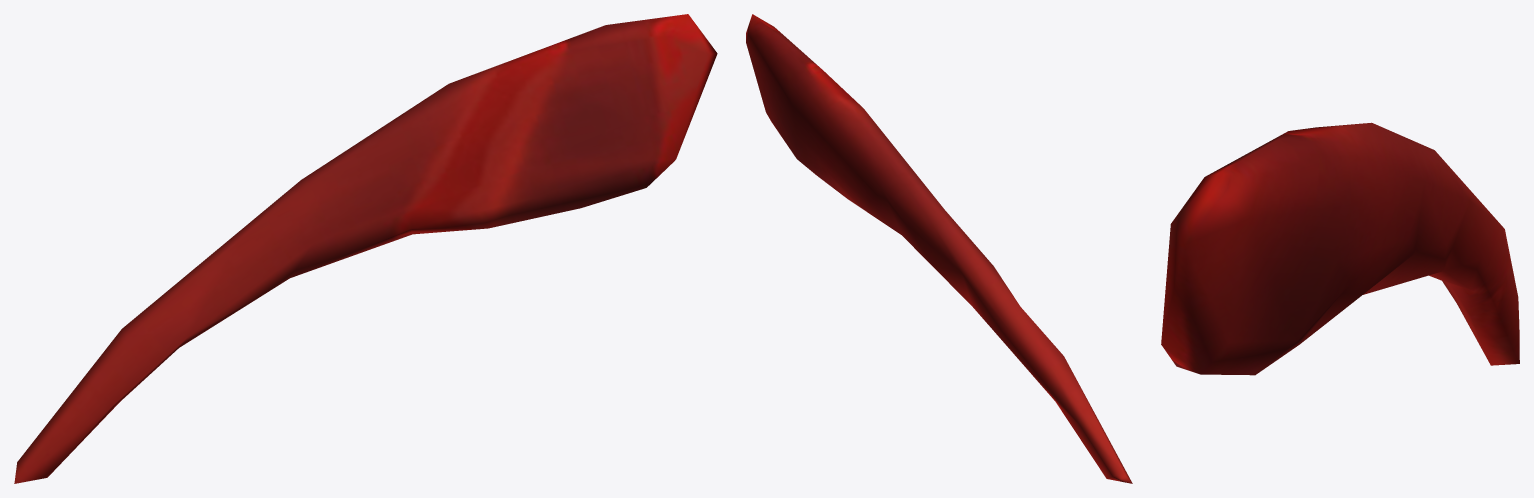
Rendered from Face_Mucle_06.glb.
3 renders of one model, left to right at view 1: azimuth 30°, elevation 25°; view 2: azimuth 150°, elevation 25°; view 3: azimuth 270°, elevation 25°, orthographic. The views are drawn at different scales.
Parts seen in each view (by area): view 1: Face_Mucle_06; view 2: Face_Mucle_06; view 3: Face_Mucle_06.
Part boxes in pixels (x1,y1,x2,y2): Face_Mucle_06: (14,14,717,483); Face_Mucle_06: (746,14,1132,483); Face_Mucle_06: (1161,122,1519,375).
Size of the model in its own units: 0.194 by 0.1221 by 0.0646.
Materials: 1 (1 with a texture image).
